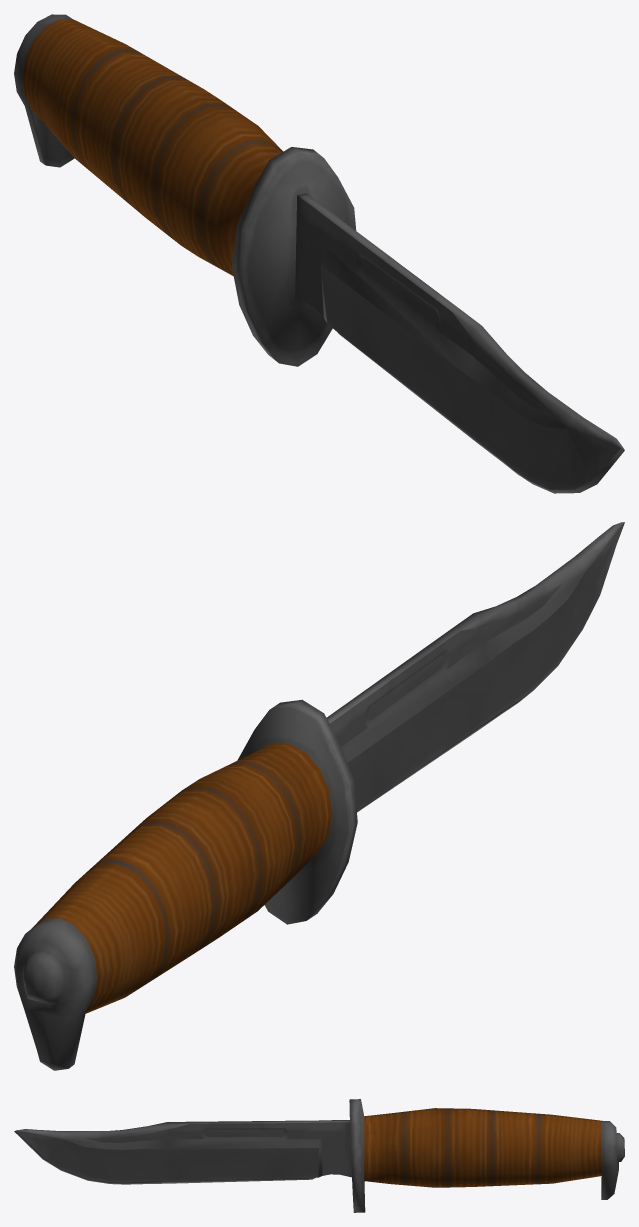
Rendered from Knife.fbx.
The picture shows the model from 3 angles, top to bottom: view 1: azimuth 30°, elevation 25°; view 2: azimuth 150°, elevation 25°; view 3: azimuth 270°, elevation 25°; orthographic projection. The views are drawn at different scales.
Parts seen in each view (by area): view 1: Knife; view 2: Knife; view 3: Knife.
Part boxes in pixels (x1,y1,x2,y2): Knife: [14, 14, 624, 493]; Knife: [14, 522, 624, 1070]; Knife: [14, 1099, 624, 1212].
Bounding box in the file's own units: 3.39 × 6.06 × 30.
